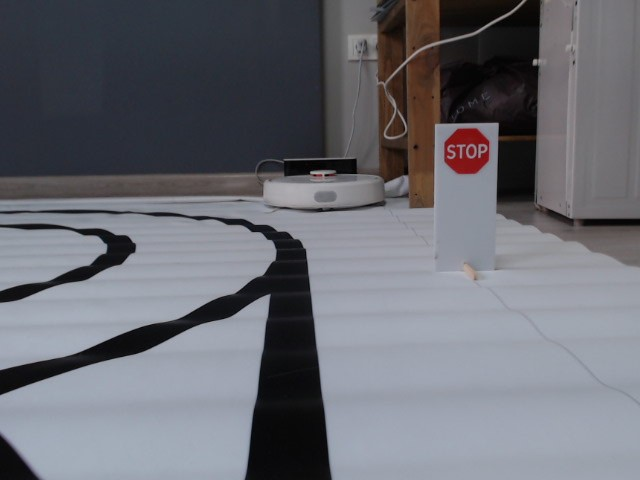Stop: (442, 127, 493, 176)
